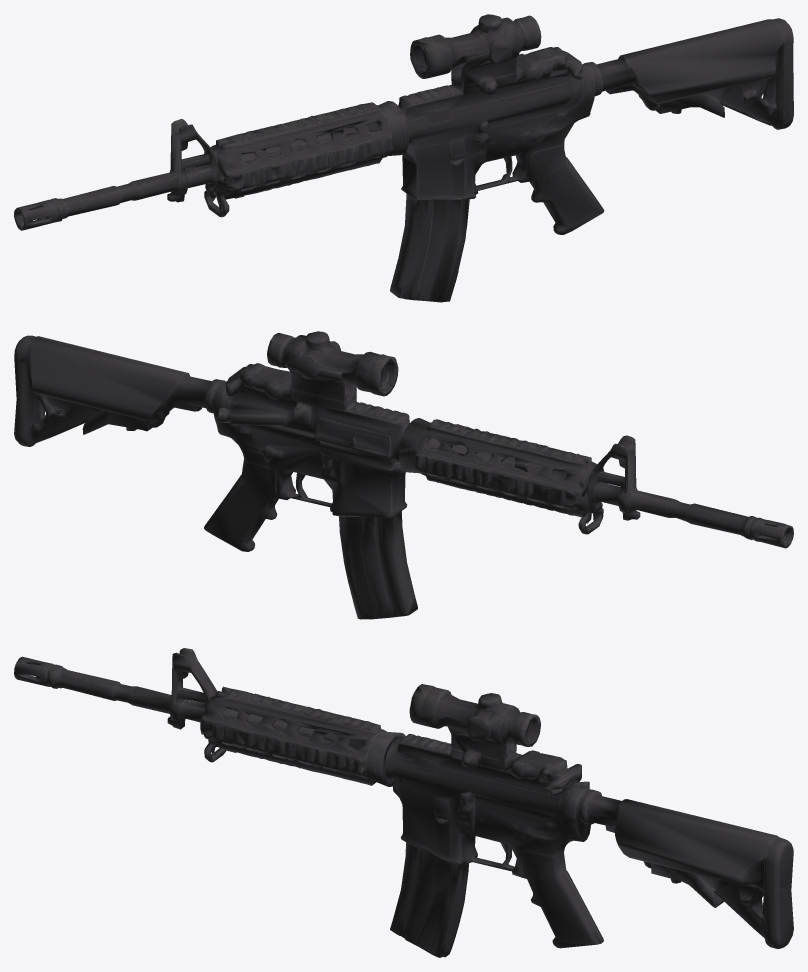
The model's file is wpn_rifle.glb.
3 views of the same model, one above another, from view 1: azimuth 30°, elevation 25°; view 2: azimuth 150°, elevation 25°; view 3: azimuth 330°, elevation 25° (orthographic).
Parts seen in each view (by area): view 1: Mesh_0; view 2: Mesh_0; view 3: Mesh_0.
Boxes of the visible parts, <box> form: Mesh_0: <box>14,14,793,302</box>; Mesh_0: <box>14,331,793,619</box>; Mesh_0: <box>14,648,793,957</box>.
Bounding box in the file's own units: 1.9 × 0.635 × 0.1679.
1 material, 1 textured.
